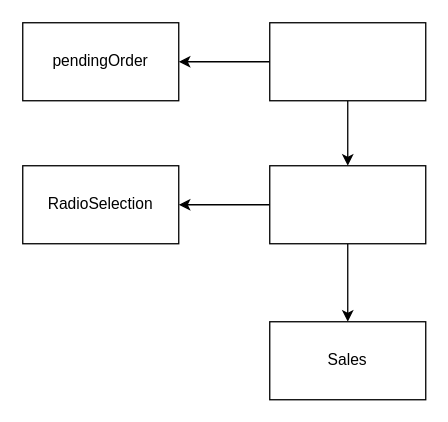
The diagram is 448 pixels wide and 422 high, and some of its shapes have lost their labels. The shapes that lost their labels are listed below. From the top down, each one's box as (x1, y1, x2, y2) in pixels, then its label:
(268, 21, 426, 101): main
(268, 164, 426, 244): FoodTruck
